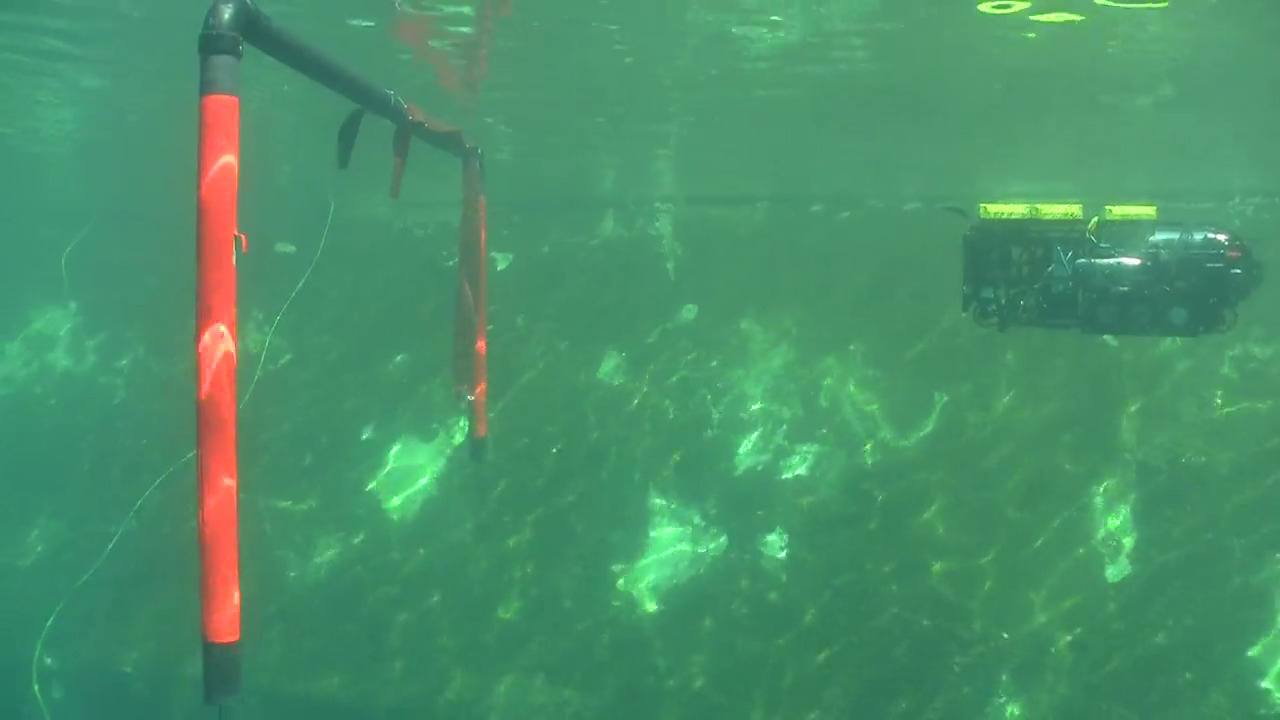gate: (174, 1, 501, 720)
